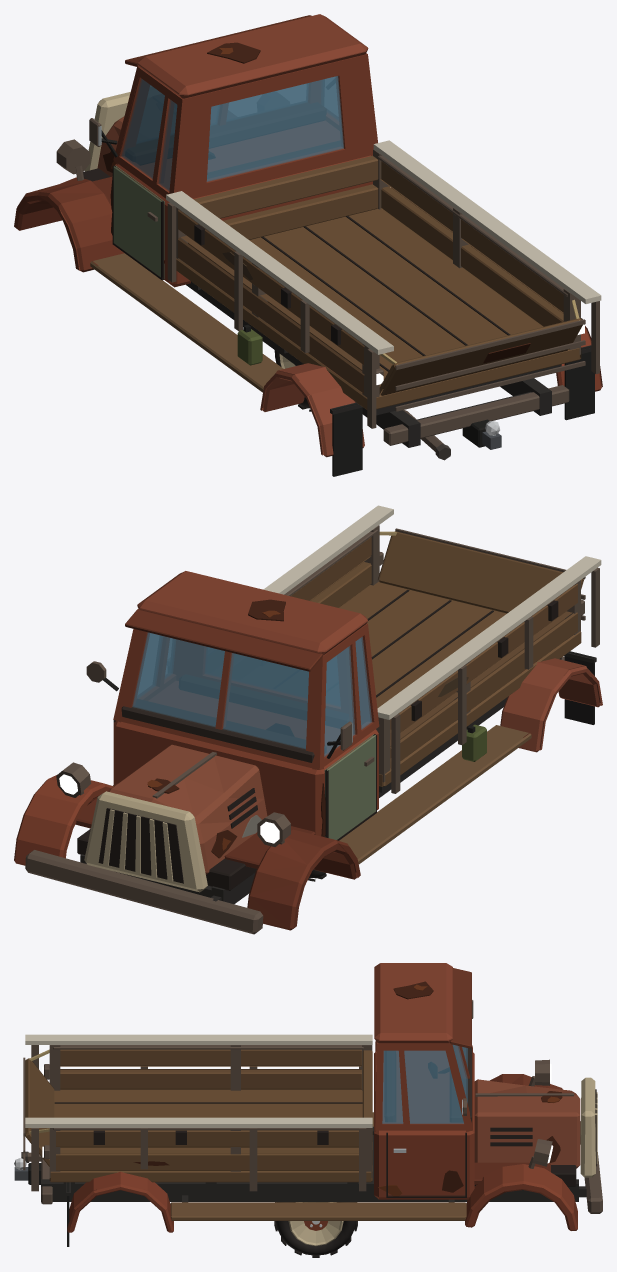
Rendered from Rustbucket.glb.
3 renders of one model, top to bottom at view 1: azimuth 30°, elevation 25°; view 2: azimuth 150°, elevation 25°; view 3: azimuth 270°, elevation 25°, orthographic. The views are drawn at different scales.
Parts seen in each view (by area): view 1: Bed, Body, Glass, Hitch; view 2: Body, Bed, Glass, Lights; view 3: Body, Bed, Glass, Wheel, Hitch.
Boxes of the visible parts, x1=… form: Bed: x1=166, y1=140, x2=601, y2=428; Body: x1=14, y1=14, x2=602, y2=476; Glass: x1=98, y1=76, x2=343, y2=190; Hitch: x1=462, y1=419, x2=501, y2=449; Body: x1=14, y1=552, x2=602, y2=934; Bed: x1=263, y1=505, x2=601, y2=793; Glass: x1=132, y1=632, x2=371, y2=756; Lights: x1=59, y1=552, x2=383, y2=843; Body: x1=21, y1=963, x2=602, y2=1246; Bed: x1=23, y1=1034, x2=372, y2=1191; Glass: x1=382, y1=1044, x2=467, y2=1123; Wheel: x1=274, y1=1202, x2=357, y2=1257; Hitch: x1=14, y1=1158, x2=41, y2=1184.
Bounding box in the file's own units: 10.69 × 11.39 × 23.7.
